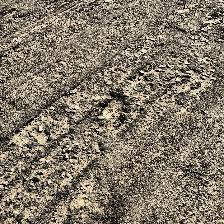pothole: (97, 92, 127, 130), (128, 68, 148, 86)
